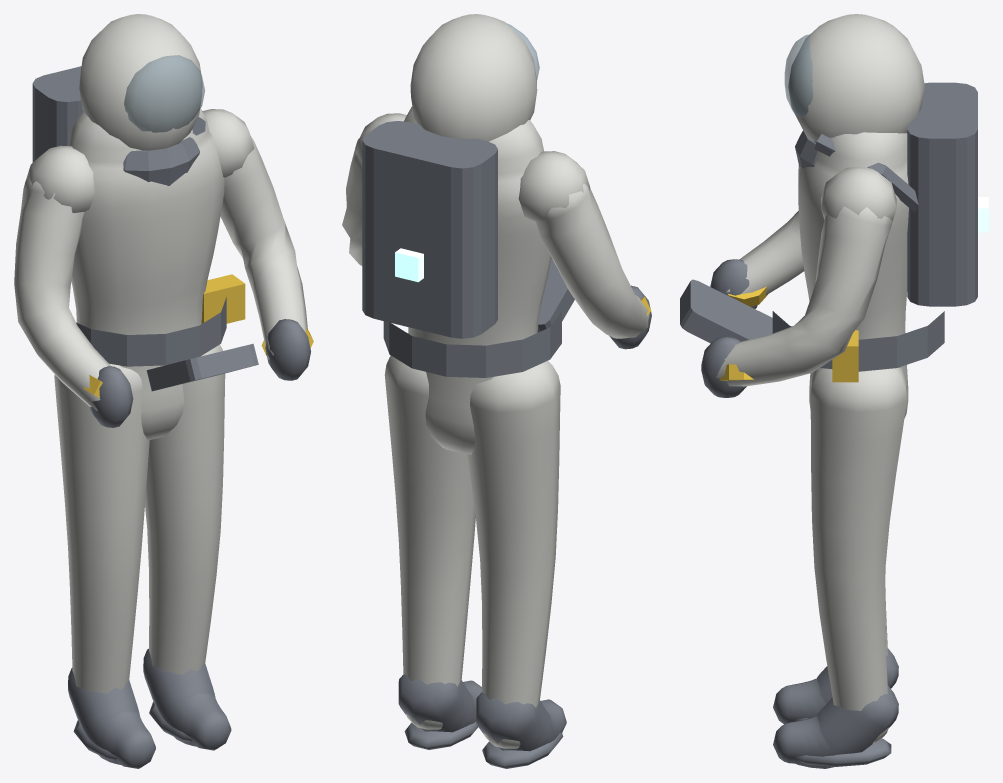
File: ufo-crash-site-and-recovery-facility-hazmat-scientist-2e363860__17371.glb
3 renders of one model, left to right at view 1: azimuth 30°, elevation 25°; view 2: azimuth 150°, elevation 25°; view 3: azimuth 270°, elevation 25°, orthographic. The views are drawn at different scales.
Parts seen in each view (by area): view 1: hazmat-scientist; view 2: hazmat-scientist; view 3: hazmat-scientist.
Boxes of the visible parts, bbox=[...] form: hazmat-scientist: bbox=[14, 14, 313, 768]; hazmat-scientist: bbox=[342, 14, 651, 768]; hazmat-scientist: bbox=[680, 14, 988, 768].
Size of the model in its own units: 0.7212 by 1.83 by 0.7003.
